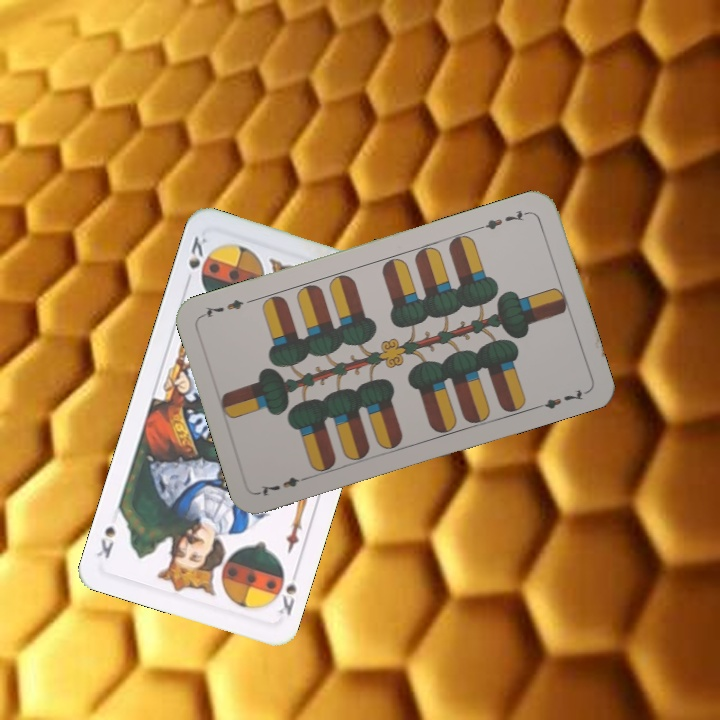E7: (475, 206, 533, 233), (255, 472, 313, 499)
SK: (269, 564, 300, 619), (181, 232, 210, 288)
